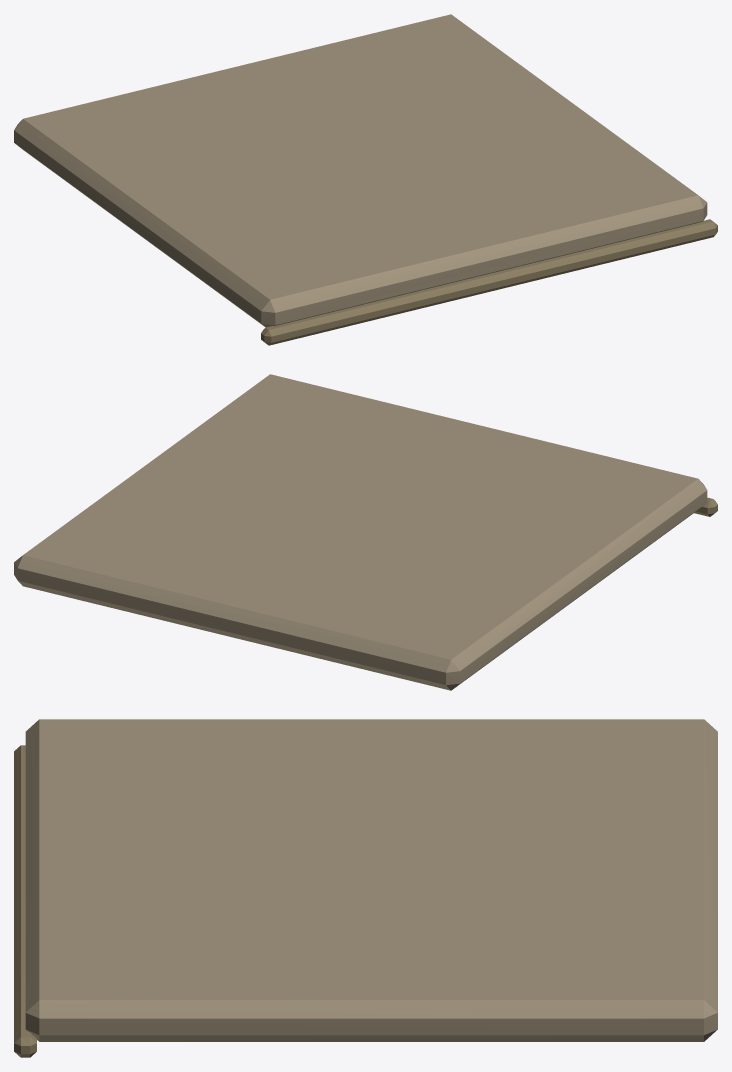
The model's file is countertop_run.glb.
3 renders of one model, top to bottom at view 1: azimuth 30°, elevation 25°; view 2: azimuth 150°, elevation 25°; view 3: azimuth 270°, elevation 25°, orthographic. The views are drawn at different scales.
Visible parts, largest first — view 1: countertop_run; view 2: countertop_run; view 3: countertop_run.
Boxes of the visible parts, x1,y1,x2,y2 form: countertop_run: (14,14,717,345); countertop_run: (14,374,717,690); countertop_run: (14,719,717,1057).
Size of the model in its own units: 0.61 by 0.05 by 0.61.
